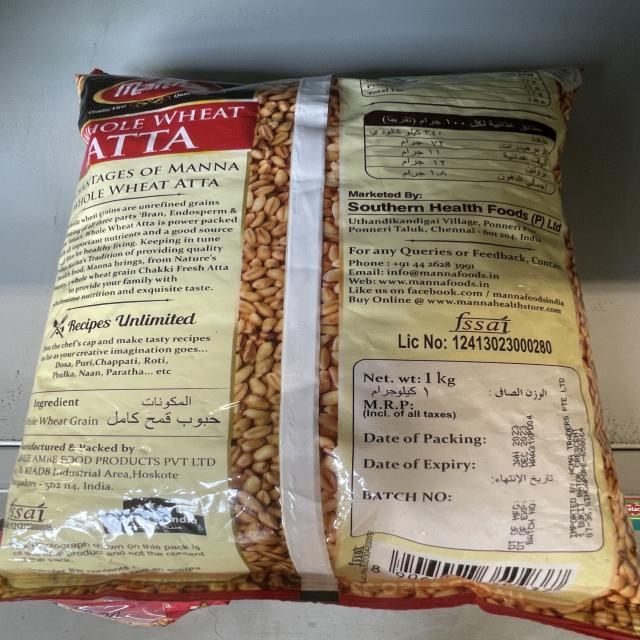object_name: (62, 74, 609, 615)
